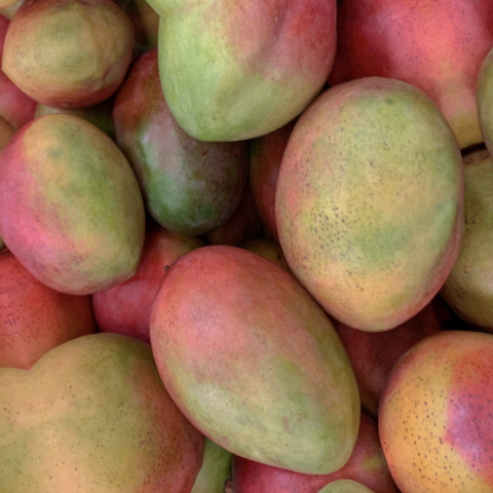mango: (77, 178, 417, 493), (229, 43, 493, 359), (120, 0, 371, 173), (0, 100, 175, 322)
